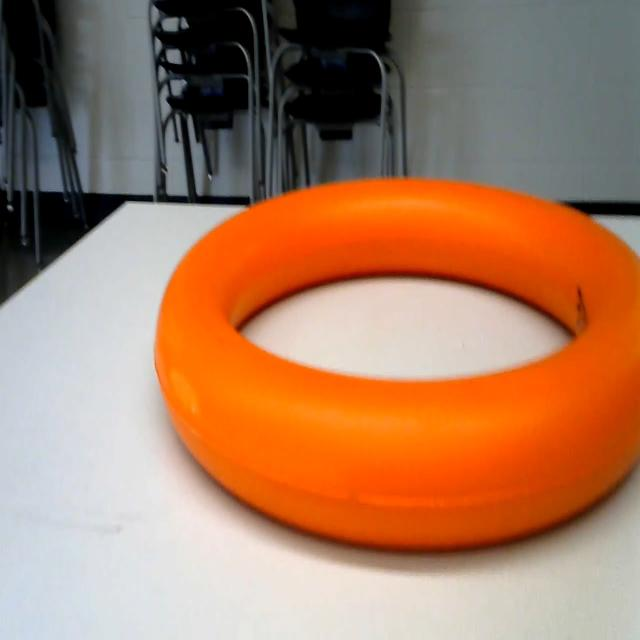note: (152, 154, 640, 601)
